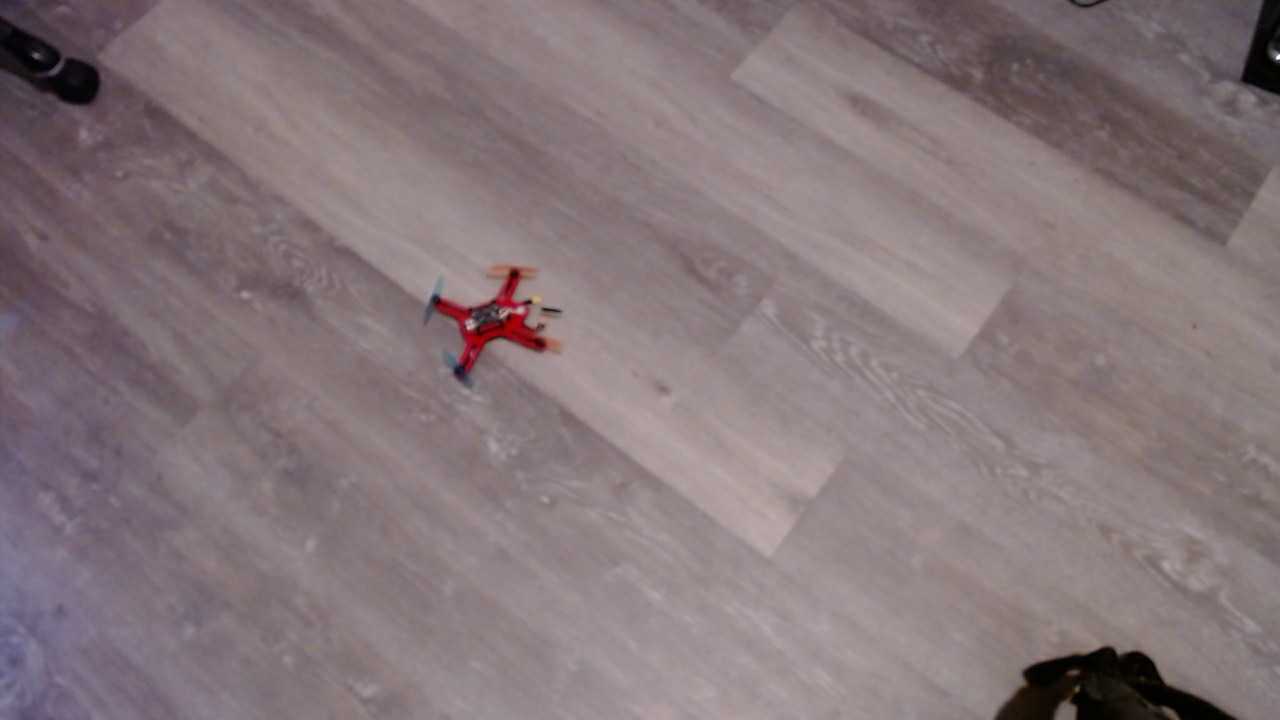crazyflie: (424, 264, 583, 392)
